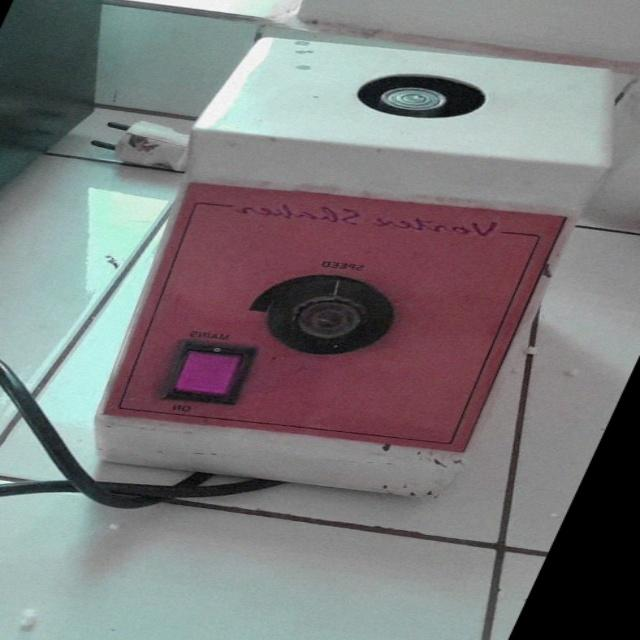Vortex: (25, 17, 640, 531)
